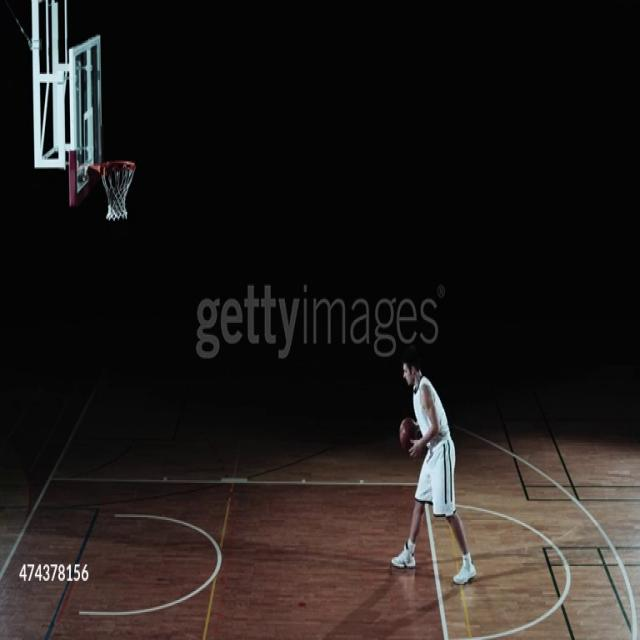ball: (399, 418, 418, 455)
